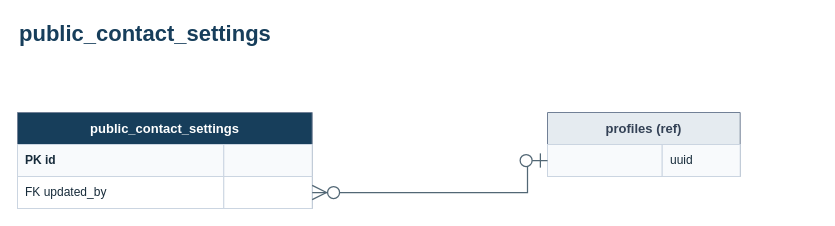
Image size: 835x226. Some labels were removed from this diagram. Each missing label, with the centre of its shape:
"boolean" belongs at (x=267, y=160).
"PK FK id" belongs at (x=604, y=160).
"uuid ?" belongs at (x=267, y=192).
